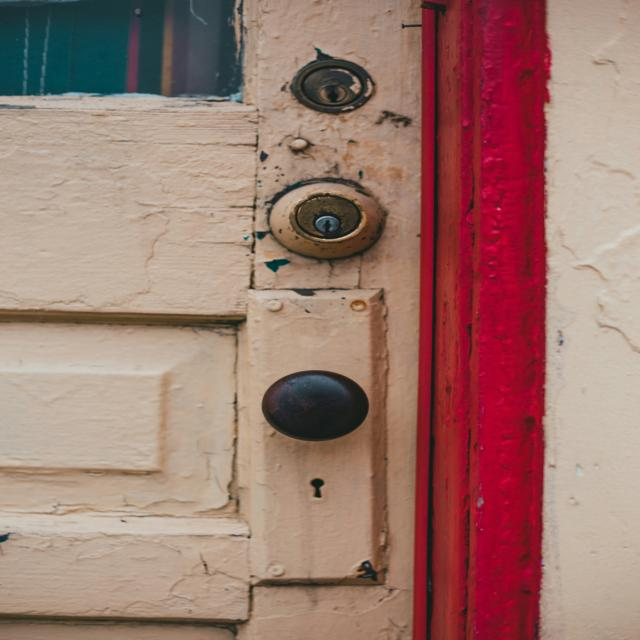door-knob: (262, 370, 369, 441)
